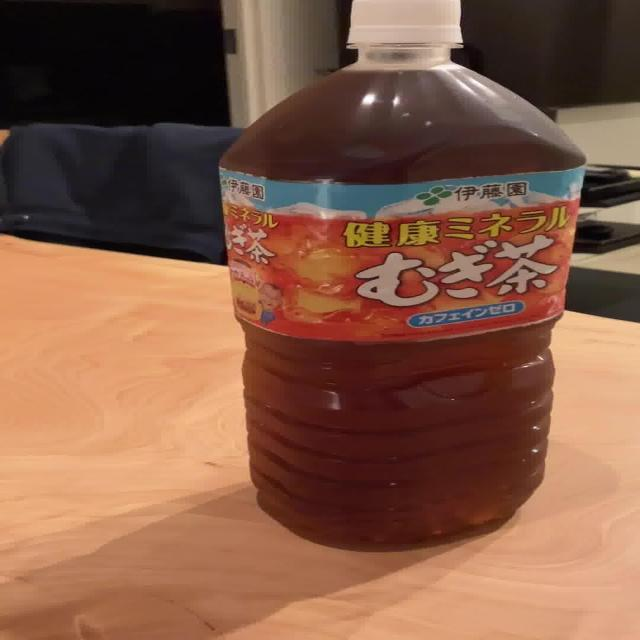good: (218, 0, 589, 550)
